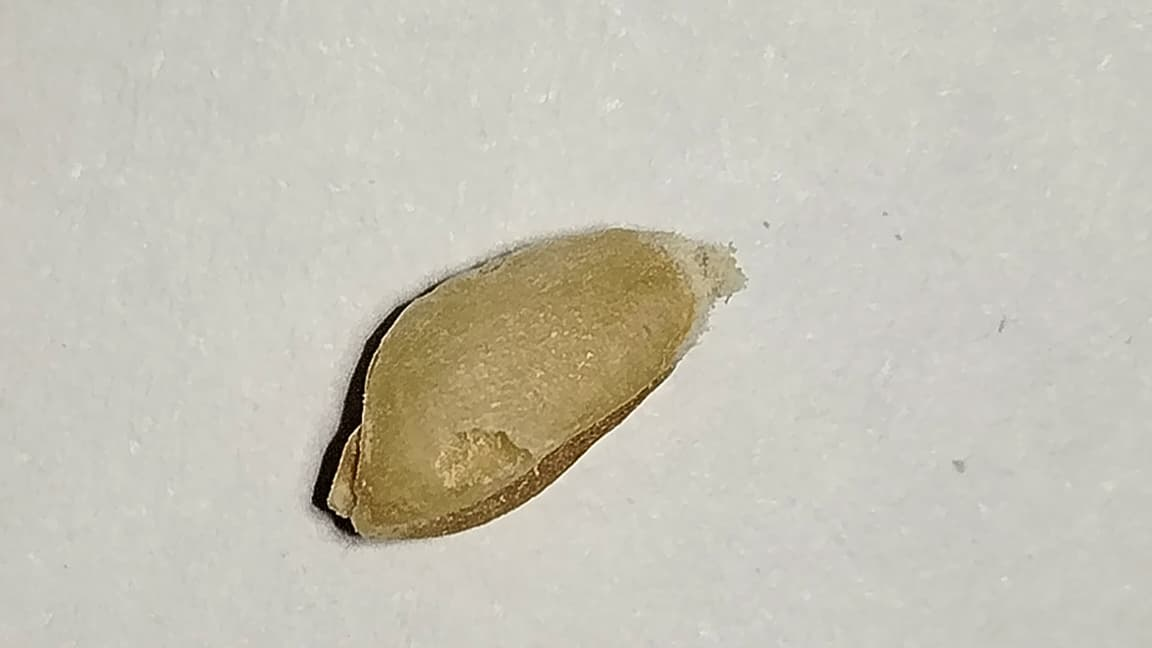damage: (333, 230, 705, 537)
insectdamage: (421, 413, 534, 518)
